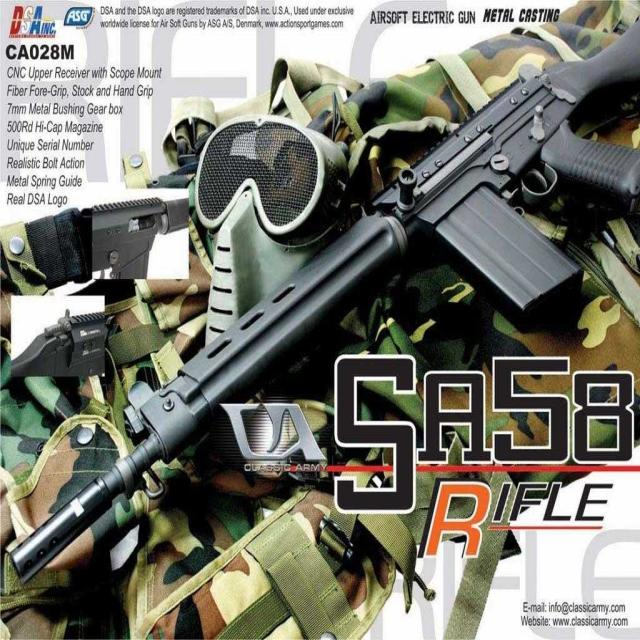heavyweapon: (5, 21, 640, 590)
